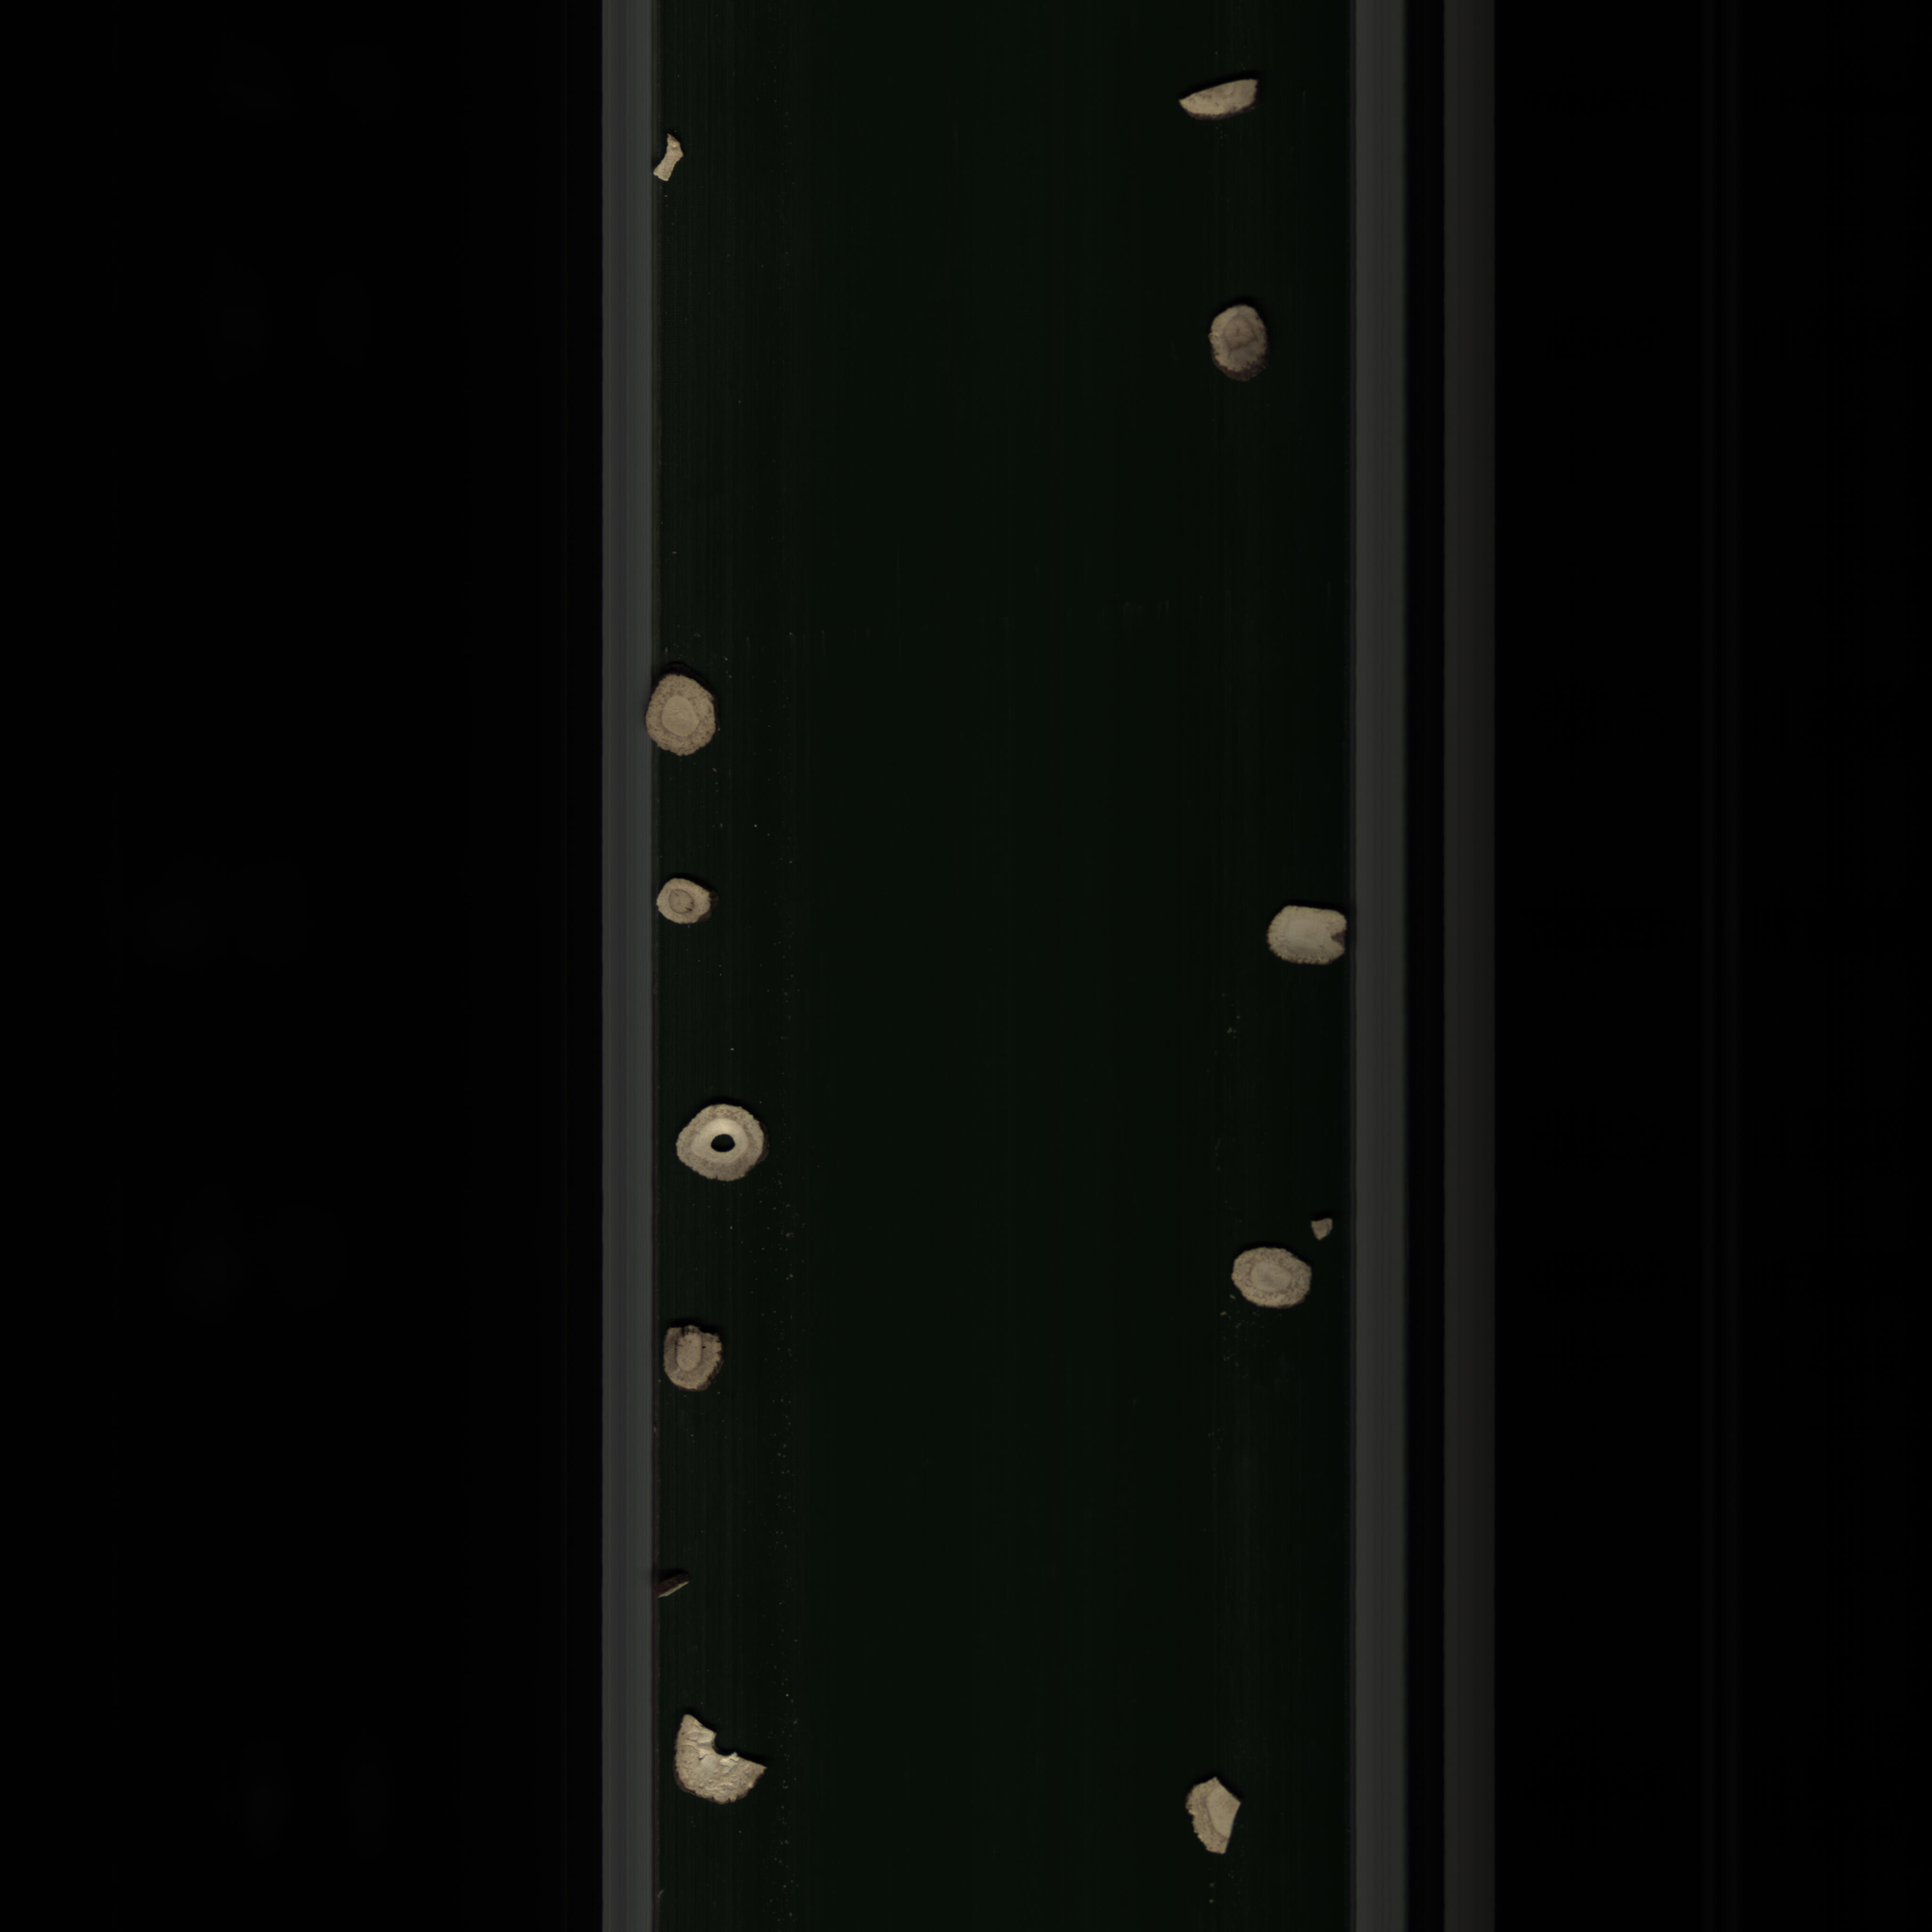bark: (658, 1571, 701, 1601)
debris: (660, 1707, 780, 1812), (1182, 1755, 1246, 1867), (1157, 74, 1265, 119), (651, 127, 690, 193)
hole: (665, 1090, 778, 1185)
moldy: (1194, 299, 1284, 396), (656, 1313, 727, 1405)
